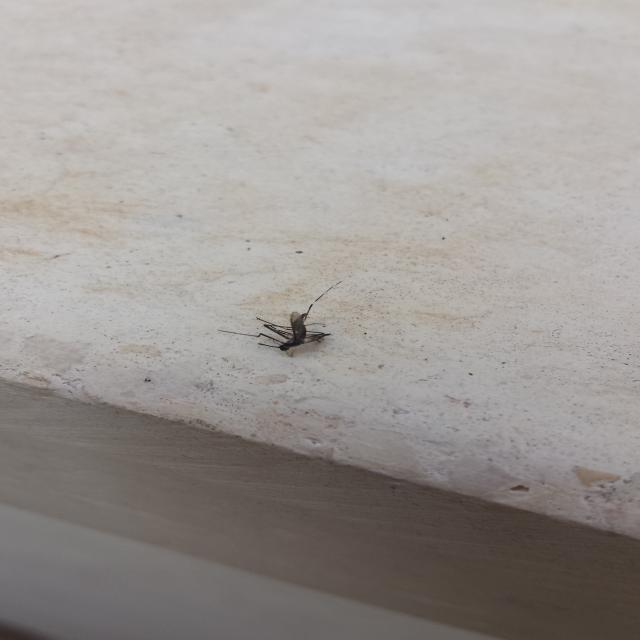albopictus: (226, 279, 351, 356)
